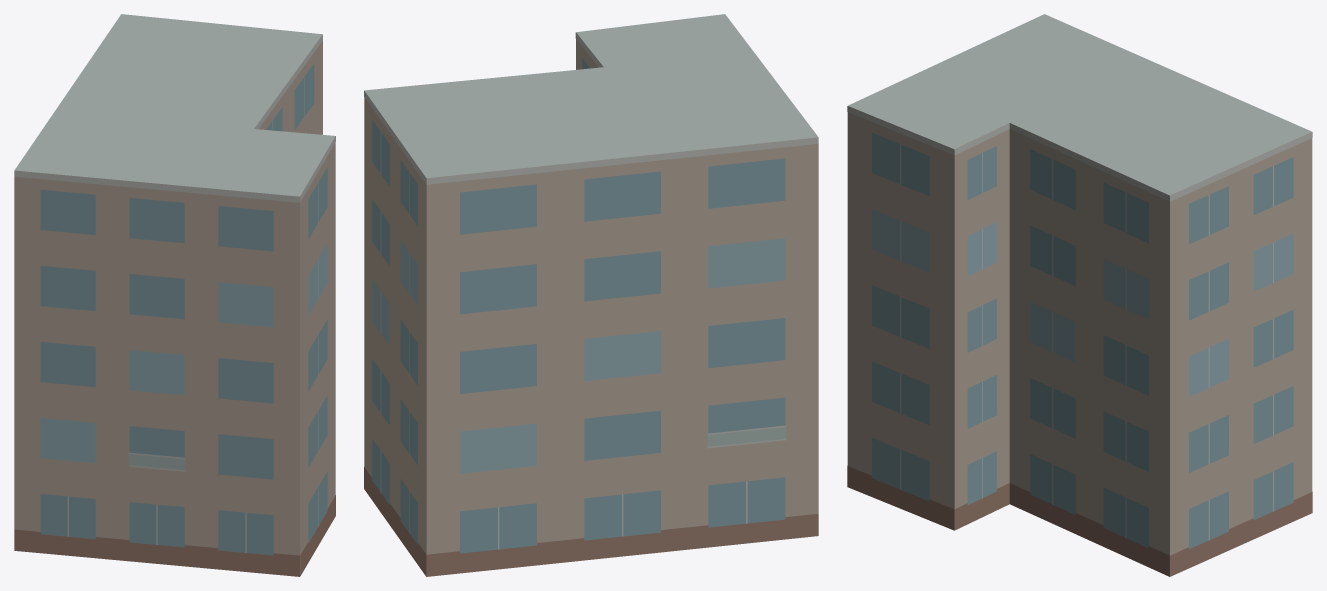
File: survey-upis-33018344.glb
3 views of the same model, side by side, from view 1: azimuth 30°, elevation 25°; view 2: azimuth 150°, elevation 25°; view 3: azimuth 270°, elevation 25° (orthographic). The views are drawn at different scales.
Parts seen in each view (by area): view 1: survey-upis-33018344.tmp; view 2: survey-upis-33018344.tmp; view 3: survey-upis-33018344.tmp.
Part boxes in pixels (<box>): survey-upis-33018344.tmp: <box>14,14,335,576</box>; survey-upis-33018344.tmp: <box>364,14,818,576</box>; survey-upis-33018344.tmp: <box>847,14,1312,576</box>.
Size of the model in its own units: 15.33 by 15 by 16.58.
